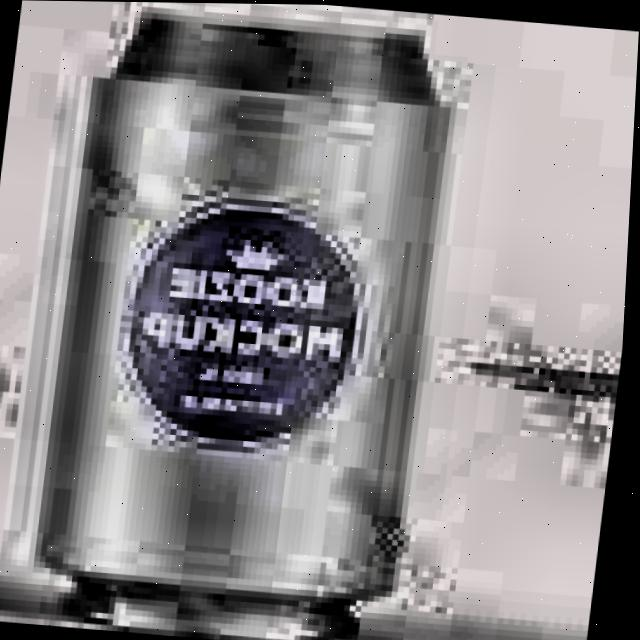metal: (15, 0, 473, 640)
